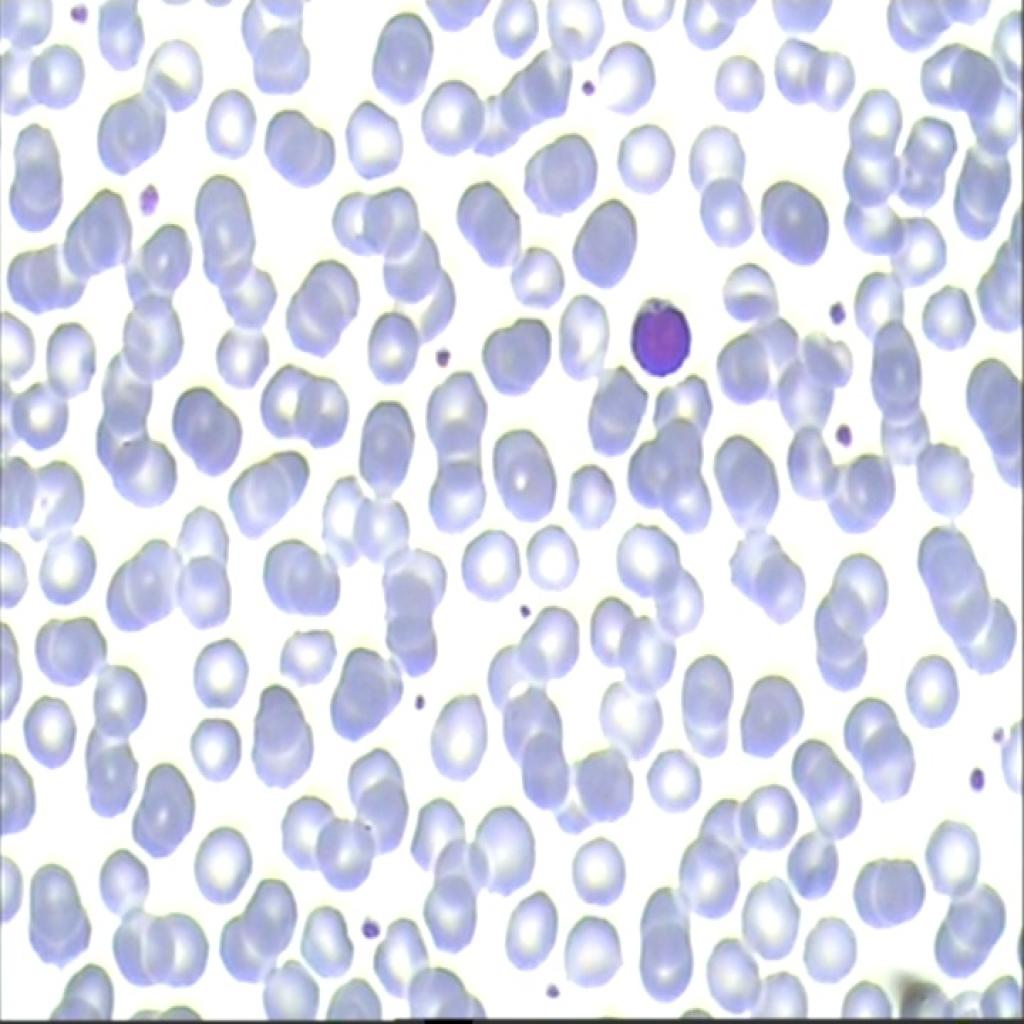Limfosit: (618, 292, 692, 391)
Platelet: (125, 173, 171, 231), (964, 761, 1013, 814), (816, 286, 856, 347), (562, 55, 607, 105), (346, 892, 382, 954), (825, 407, 859, 469), (976, 711, 1017, 754), (402, 674, 434, 724), (421, 341, 458, 375), (64, 0, 101, 30), (533, 974, 565, 1006), (516, 587, 545, 622)
